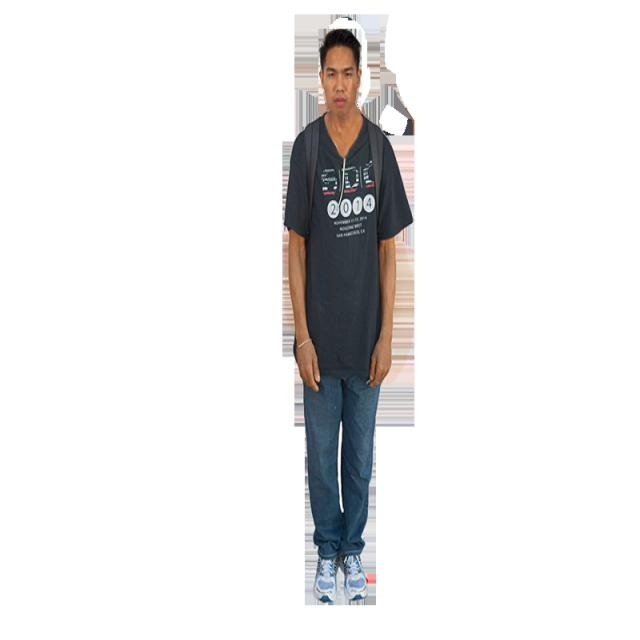jovem: (286, 19, 410, 612)
